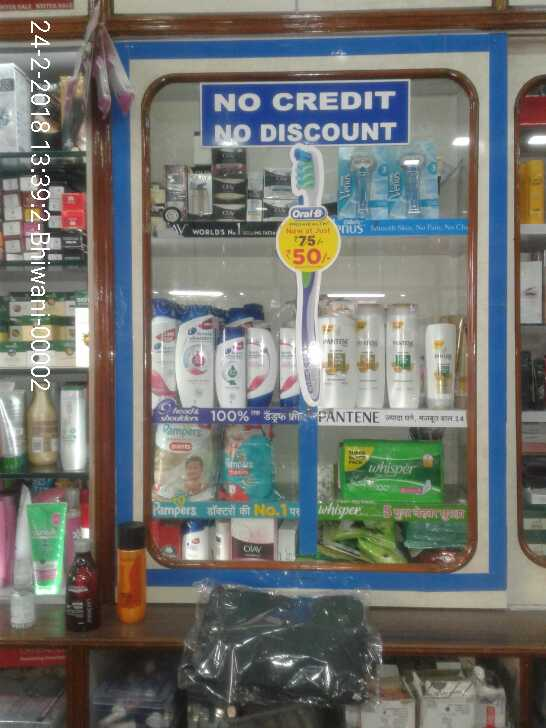venus: (388, 141, 440, 218), (336, 144, 388, 218)
